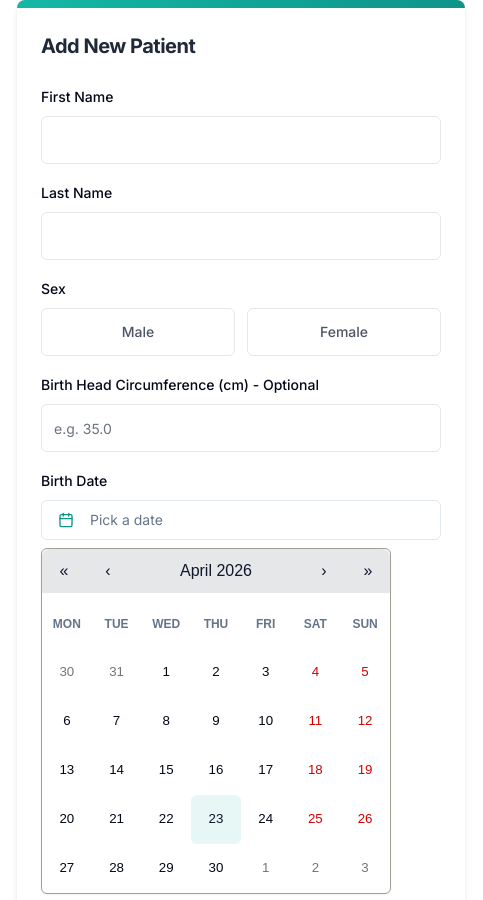
it: NewPatientForm › shows error for first name only
Type "Smith" into the field labelled "Last Name". click: (241, 236)
box: [41,212,441,260]
(page scrolled)
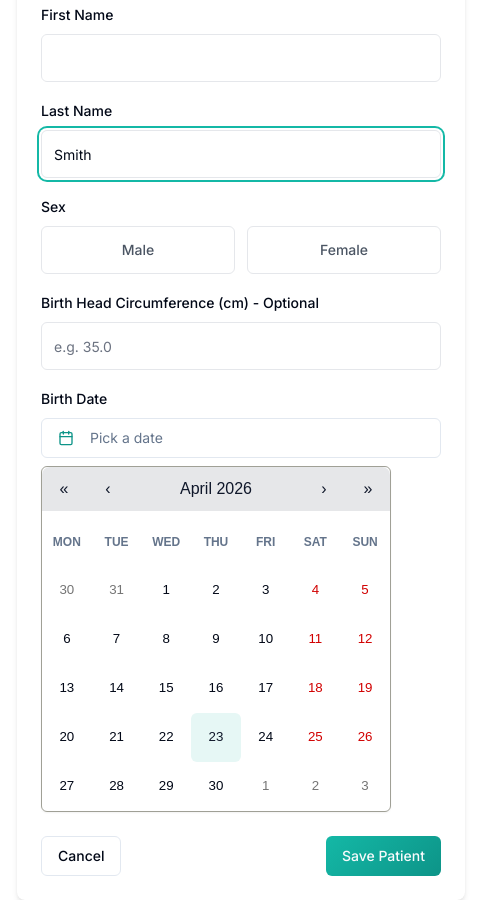
Click the button "Save Patient". click: (383, 856)
box: [326,836,441,876]
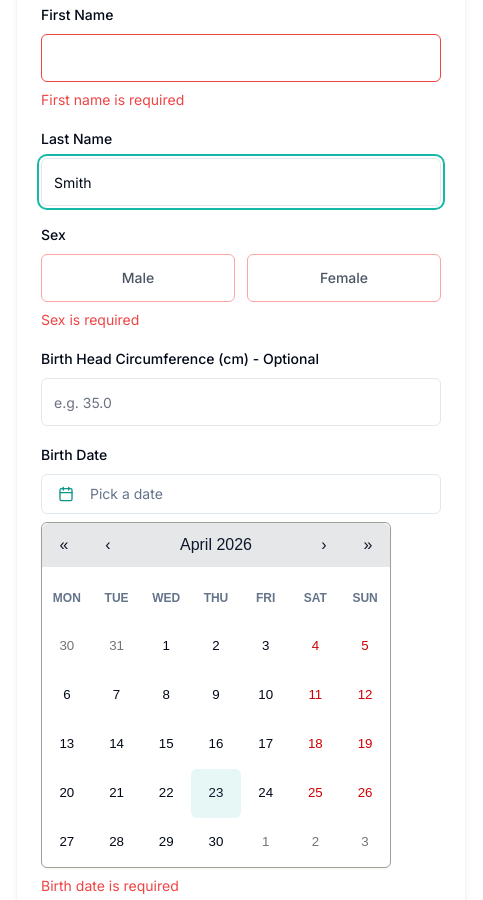
Expected: the text "First name is required" is shown, [41,91,184,108]
